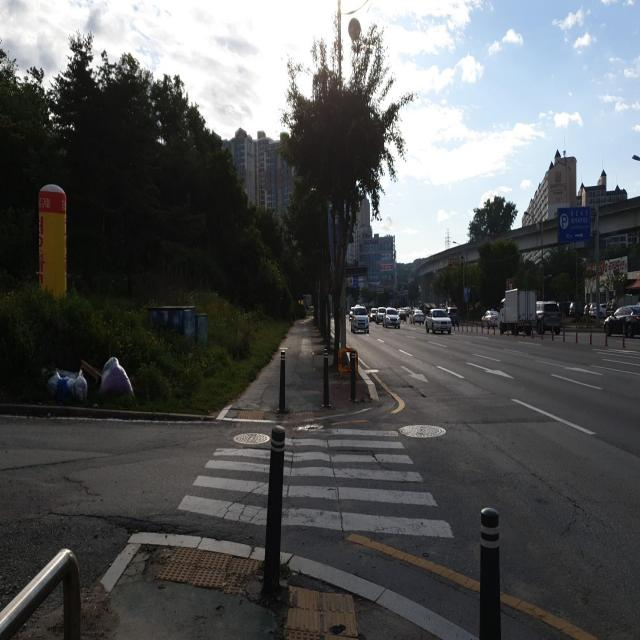횡단보도: (176, 426, 456, 541)
